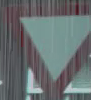Give way: (6, 0, 86, 91)
